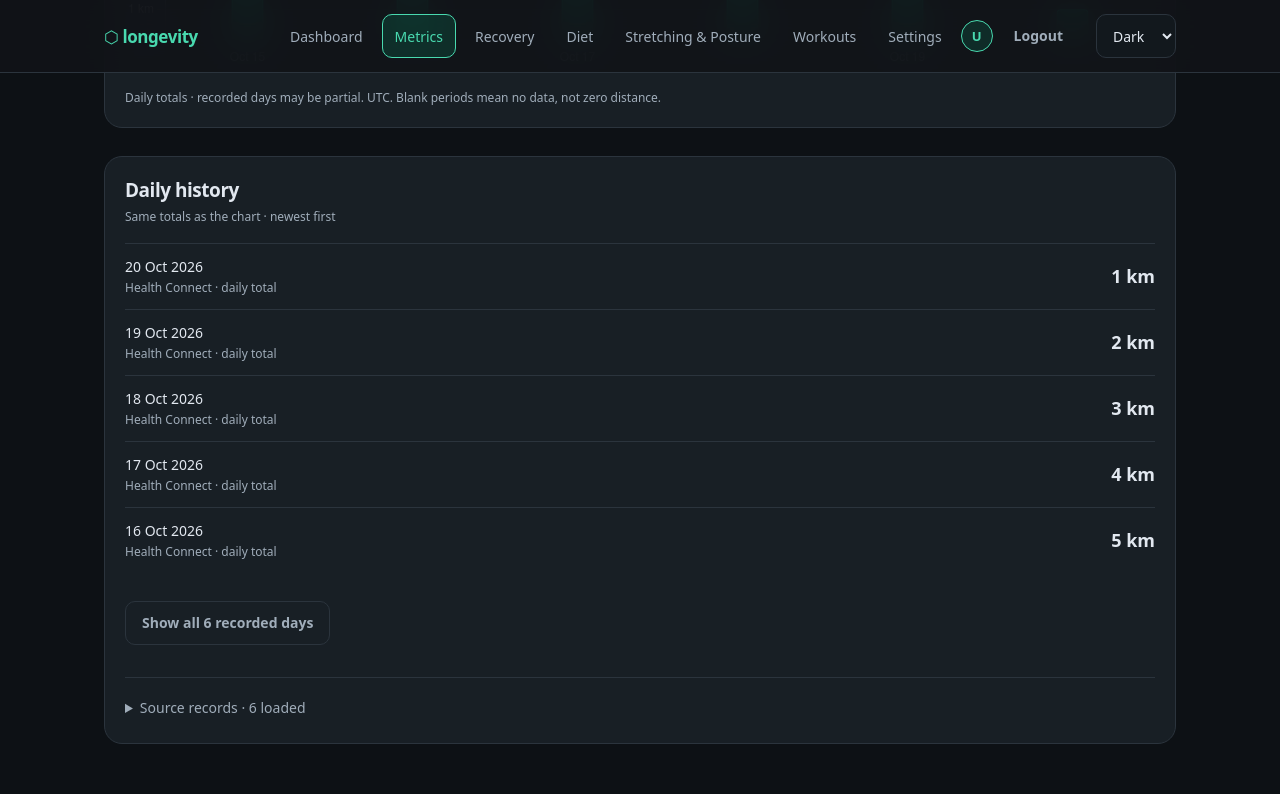
Test: metric detail route › collapses expanded Distance daily history when the range changes
The image size is (1280, 794).
(page scrolled)
What coordinates should you click on to do the following:
click the button "Show all 6 recorded days"
I would click on:
 (228, 623)
Its box is [125, 601, 330, 645].
(page scrolled)
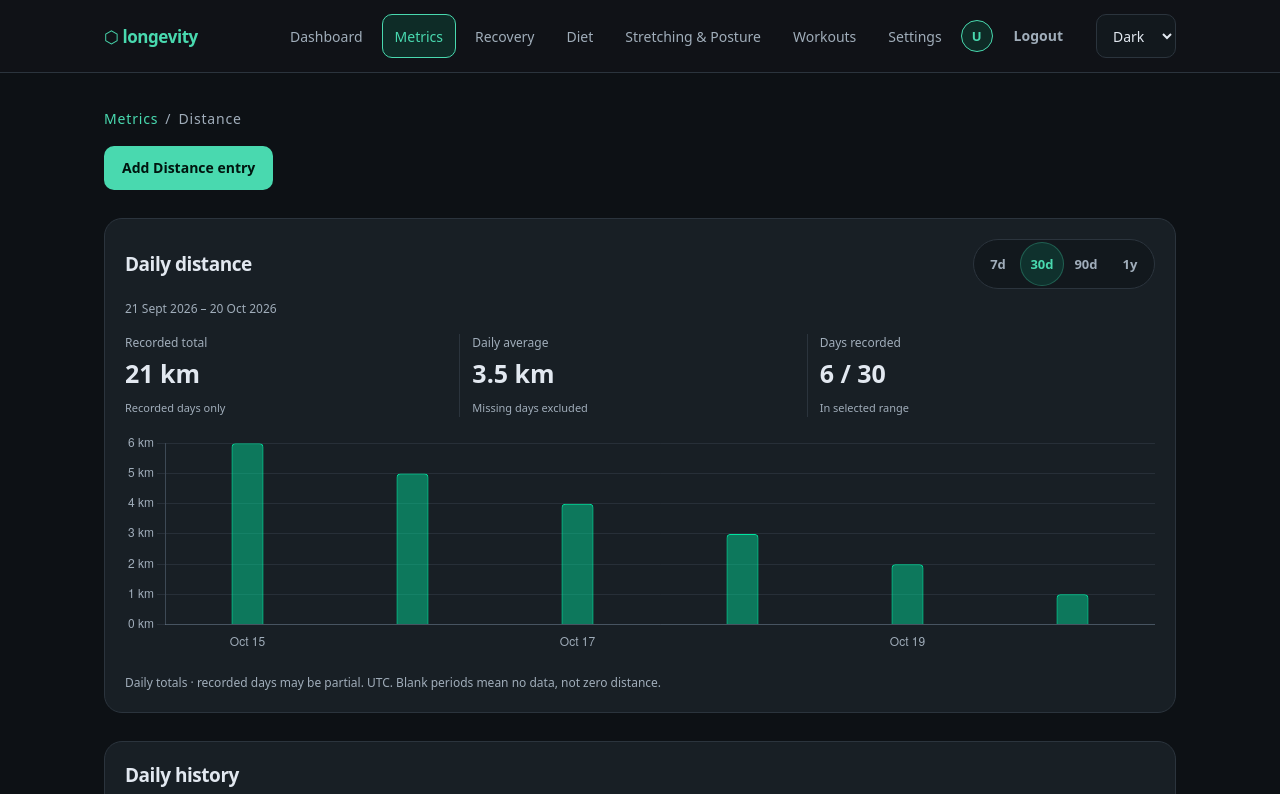
What coordinates should you click on to do the following:
click the button "7d"
I would click on:
 (998, 264)
Its box is [976, 242, 1020, 286].
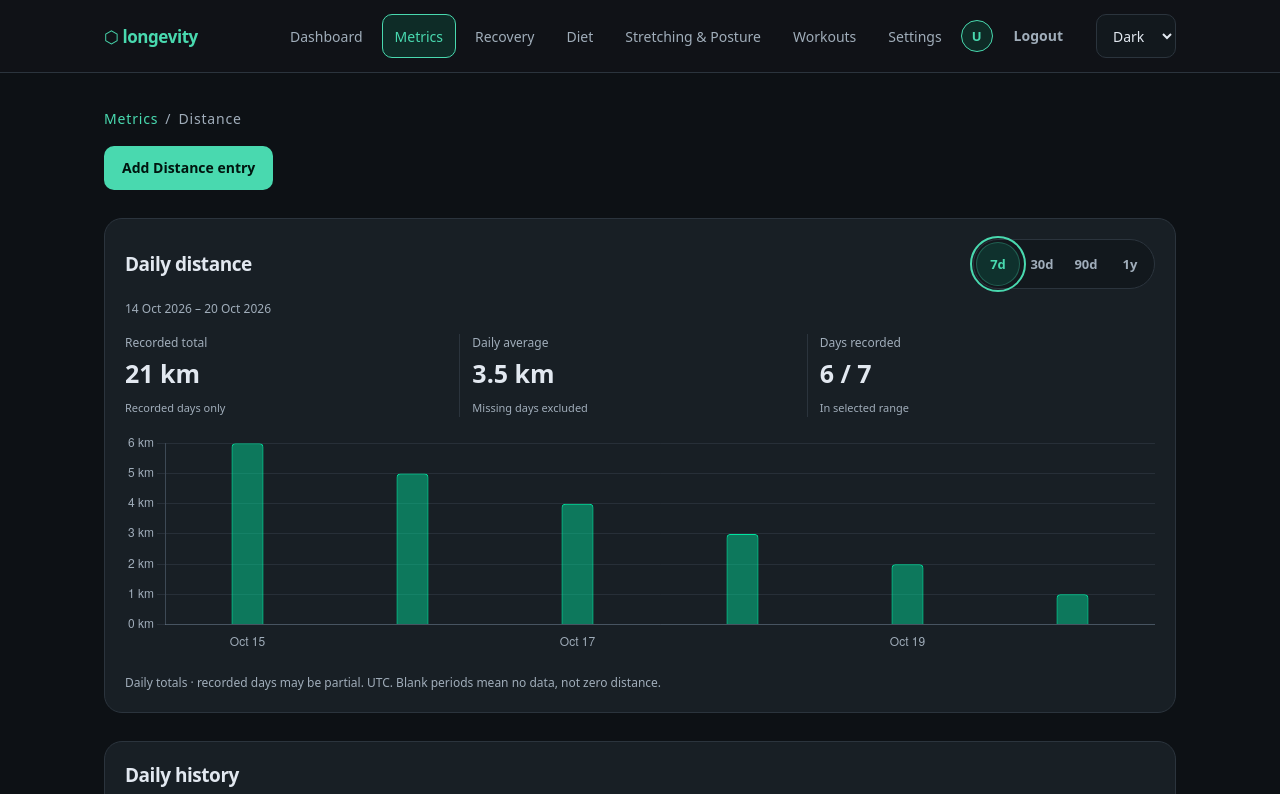
Result: the text "6 / 7" is shown at [820, 356, 872, 390]
